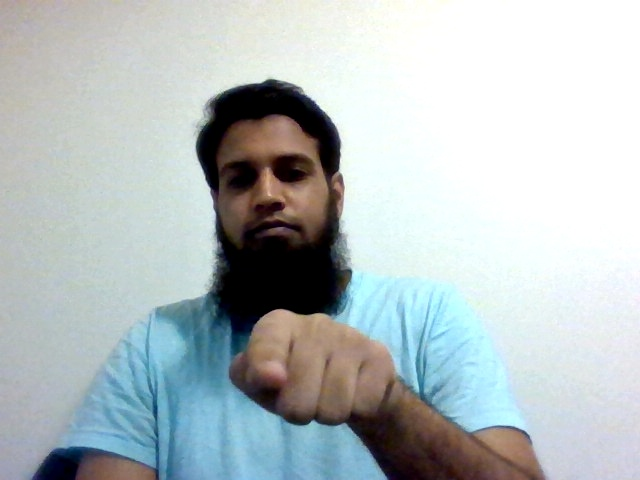you: (228, 305, 402, 430)
